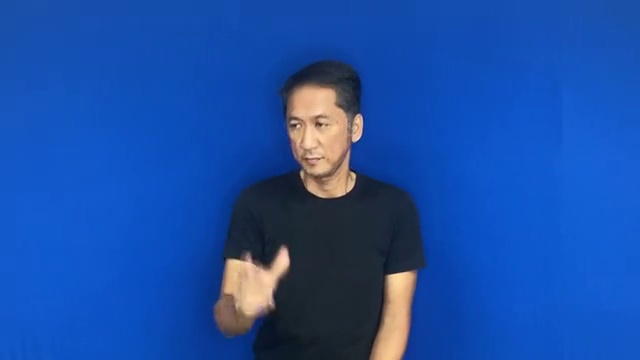chicken: (215, 242, 298, 322)
